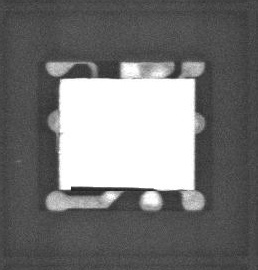DIE_BROKEN: (69, 183, 158, 192)
